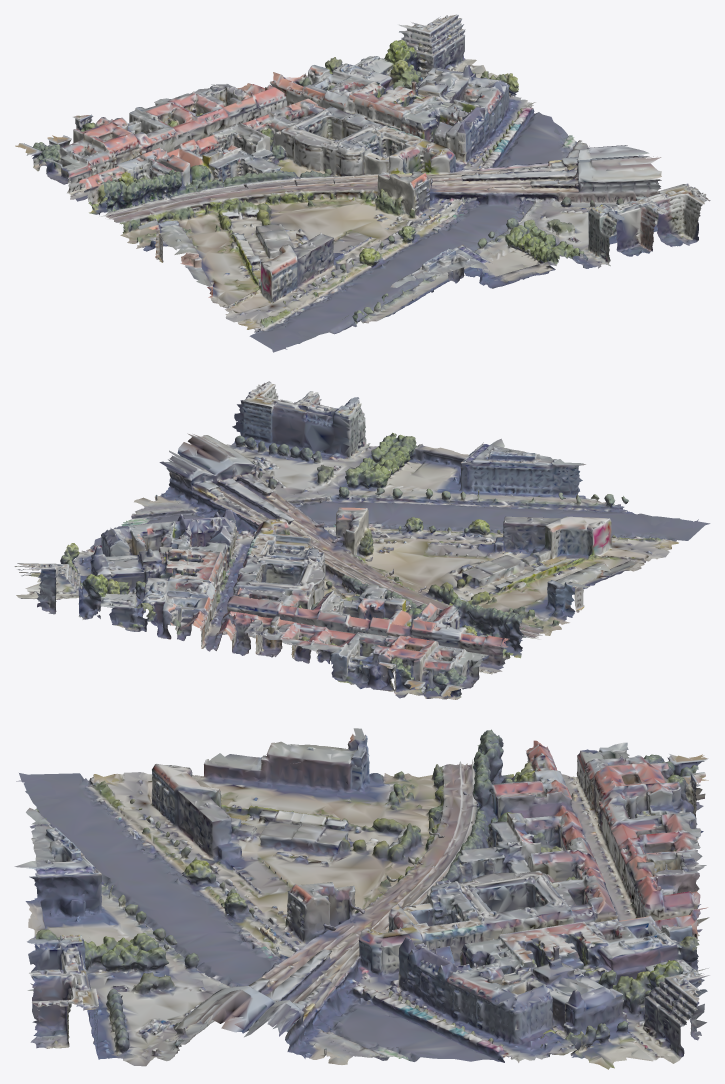
File: surface-detail-3901_58200.glb
The picture shows the model from 3 angles, top to bottom: view 1: azimuth 30°, elevation 25°; view 2: azimuth 150°, elevation 25°; view 3: azimuth 270°, elevation 25°; orthographic projection. The views are drawn at different scales.
Visible parts, largest first — view 1: world; view 2: world; view 3: world.
Part boxes in pixels (x1,y1,x2,y2): world: [15, 14, 710, 352]; world: [14, 381, 710, 699]; world: [14, 728, 709, 1069].
Bounding box in the file's own units: 390 × 38.63 × 381.
